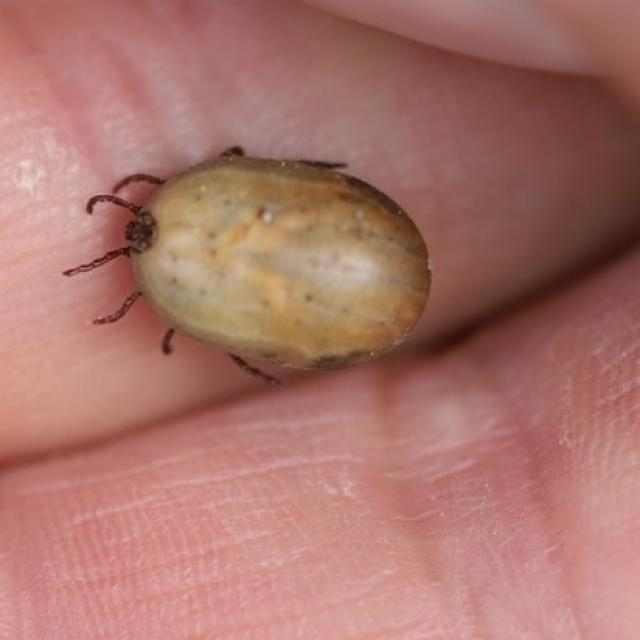Dermacentor Reticulatus-F-Fed: (61, 146, 430, 385)
